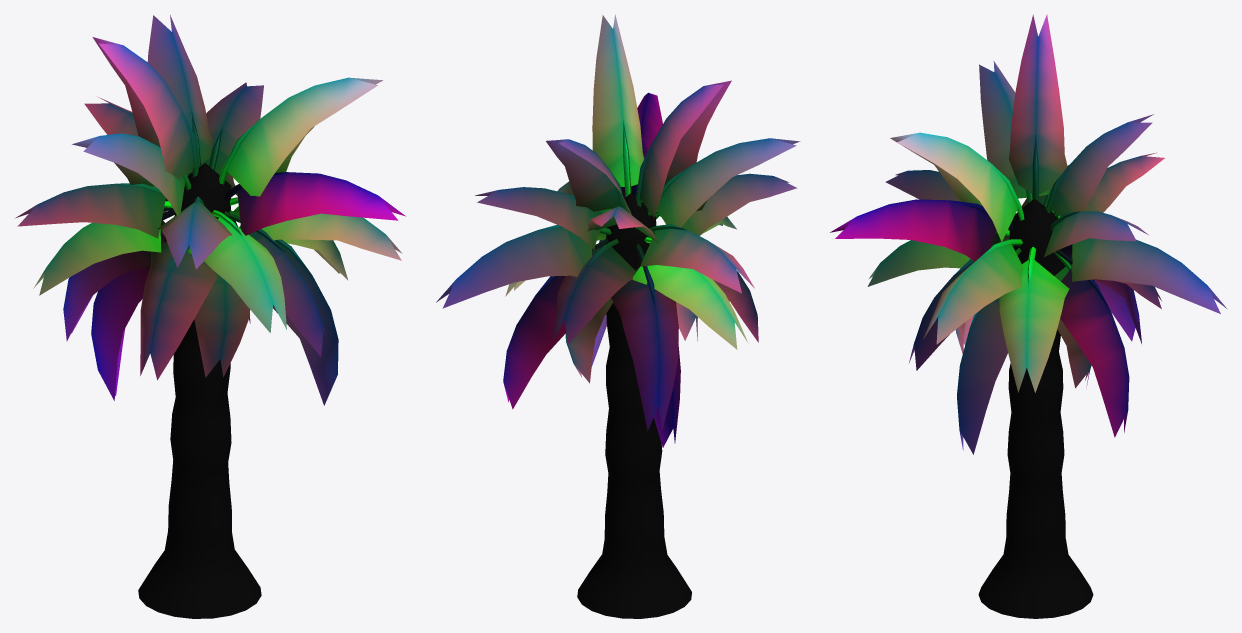
Rendered from M_Palm_2_2.fbx.
3 renders of one model, left to right at view 1: azimuth 30°, elevation 25°; view 2: azimuth 150°, elevation 25°; view 3: azimuth 270°, elevation 25°, orthographic. The views are drawn at different scales.
Visible parts, largest first — view 1: Palm_2_2; view 2: Palm_2_2; view 3: Palm_2_2.
Boxes of the visible parts, x1,y1,x2,y2 form: Palm_2_2: [15, 15, 405, 618]; Palm_2_2: [436, 14, 800, 618]; Palm_2_2: [830, 14, 1226, 618].
Size of the model in its own units: 483 by 871 by 589.
